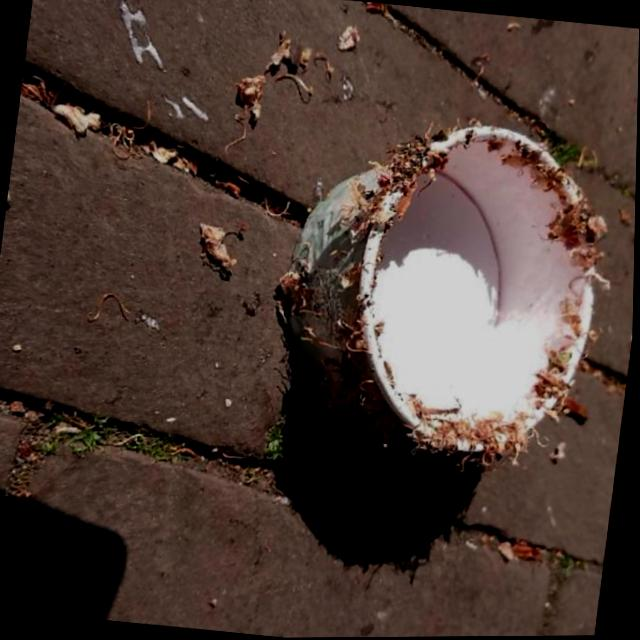Paper: (260, 98, 622, 476)
